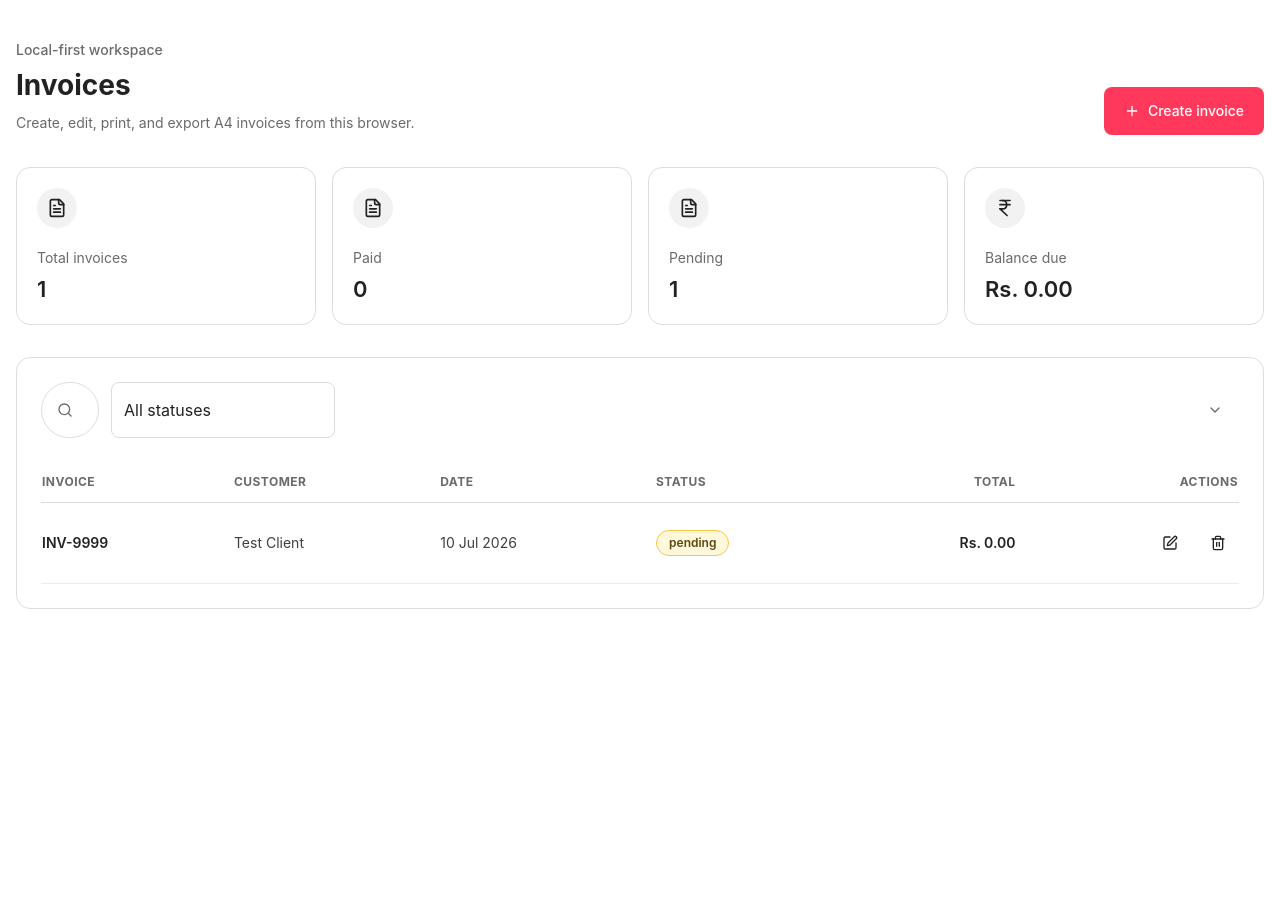
Scenario: DashboardPage › loads and deletes an invoice successfully
Expected: the text "INV-9999" is shown, left=41, top=502, right=233, bottom=583
Expected: the text "Test Client" is shown, left=233, top=502, right=439, bottom=583
// Locate and click the delete button
Click the button named "Delete invoice".
click(1218, 542)  # box left=1198, top=518, right=1238, bottom=566
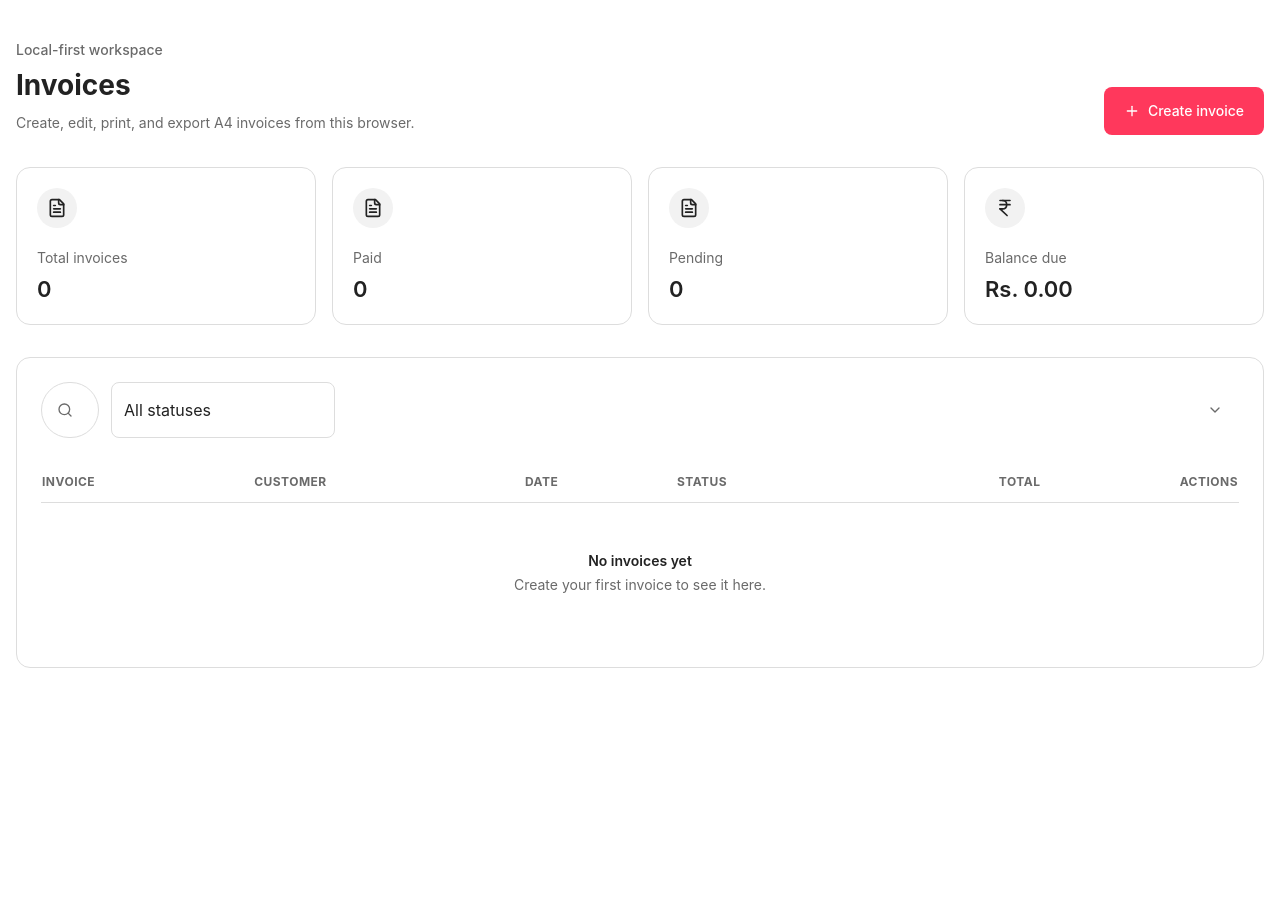
Expected: the text "INV-9999" is gone
Expected: the text "No invoices yet" is shown, left=588, top=552, right=692, bottom=568
